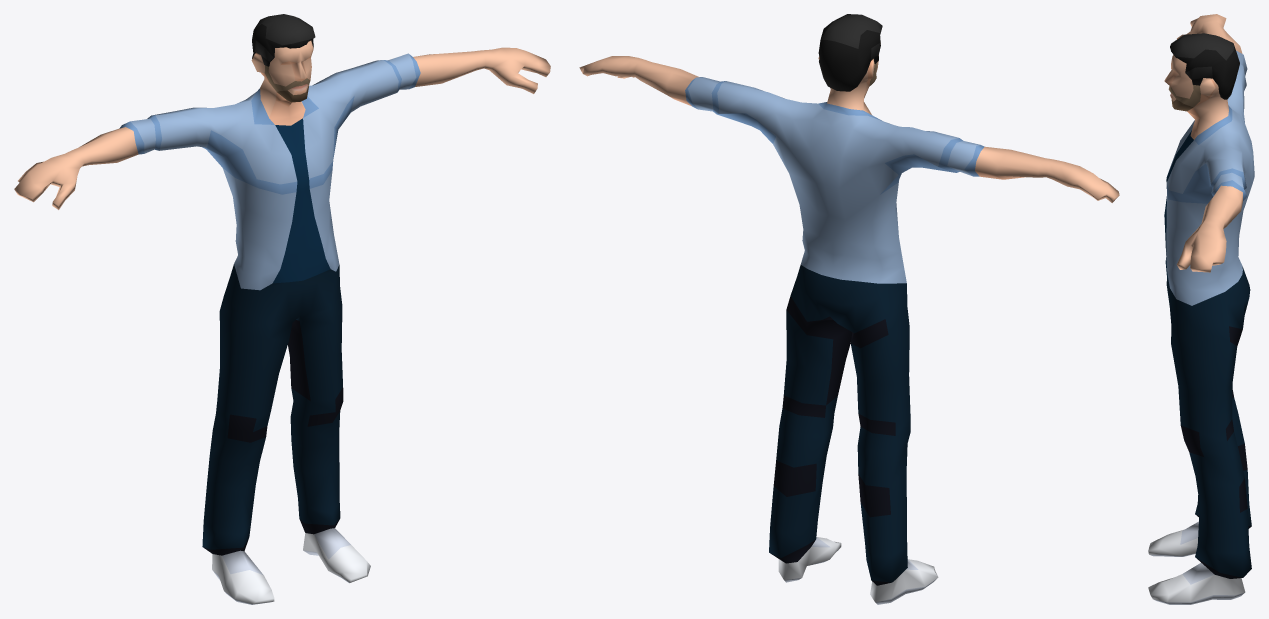
The model's file is casual_Male_G-model.obj.
The picture shows the model from 3 angles, left to right: view 1: azimuth 30°, elevation 25°; view 2: azimuth 150°, elevation 25°; view 3: azimuth 270°, elevation 25°; orthographic projection. The views are drawn at different scales.
Parts seen in each view (by area): view 1: casual_Male_G; view 2: casual_Male_G; view 3: casual_Male_G.
Part boxes in pixels (box(x1,y1,x2,y2)): casual_Male_G: box(14, 14, 550, 604); casual_Male_G: box(579, 14, 1119, 604); casual_Male_G: box(1148, 14, 1254, 604).
Bounding box in the file's own units: 182 × 182 × 32.64.
